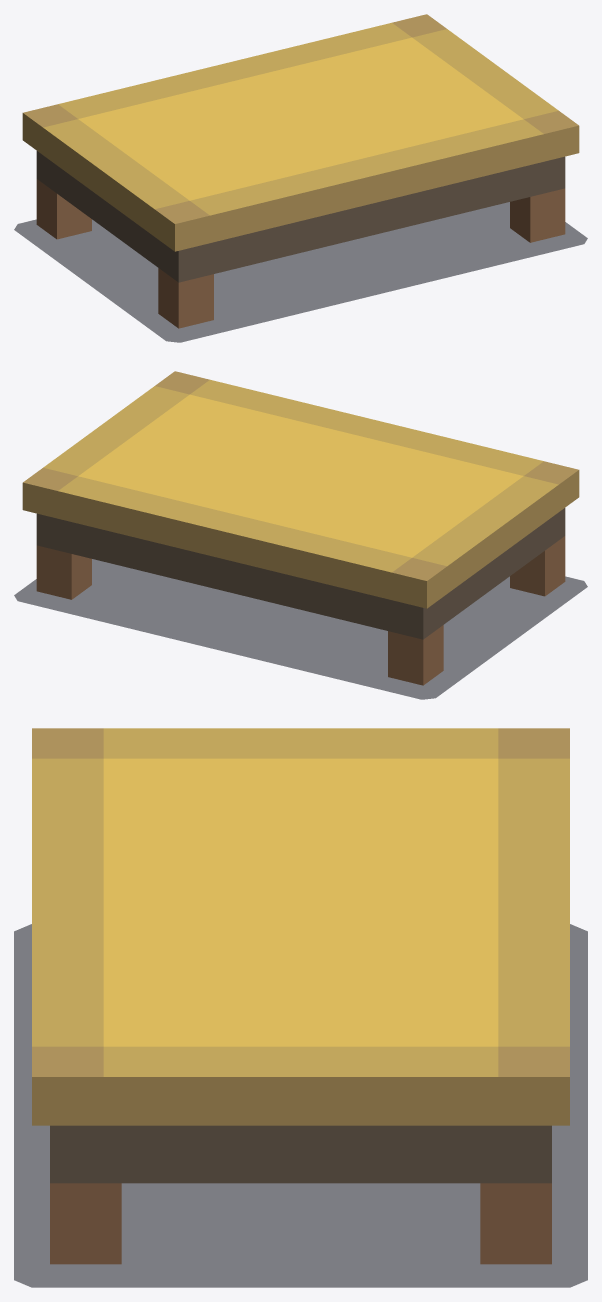
File: modelo.obj
3 views of the same model, one above another, from view 1: azimuth 30°, elevation 25°; view 2: azimuth 150°, elevation 25°; view 3: azimuth 270°, elevation 25° (orthographic). The views are drawn at different scales.
Visible parts, largest first — view 1: polygon1, polygon0; view 2: polygon1, polygon0; view 3: polygon1, polygon0.
Part boxes in pixels (x1,y1,x2,y2): polygon1: [22, 14, 579, 328]; polygon0: [14, 202, 587, 342]; polygon1: [22, 371, 579, 685]; polygon0: [14, 559, 587, 699]; polygon1: [32, 728, 569, 1264]; polygon0: [14, 924, 587, 1287].
Size of the model in its own units: 48 by 12.5 by 32.
2 materials, 2 textured.
